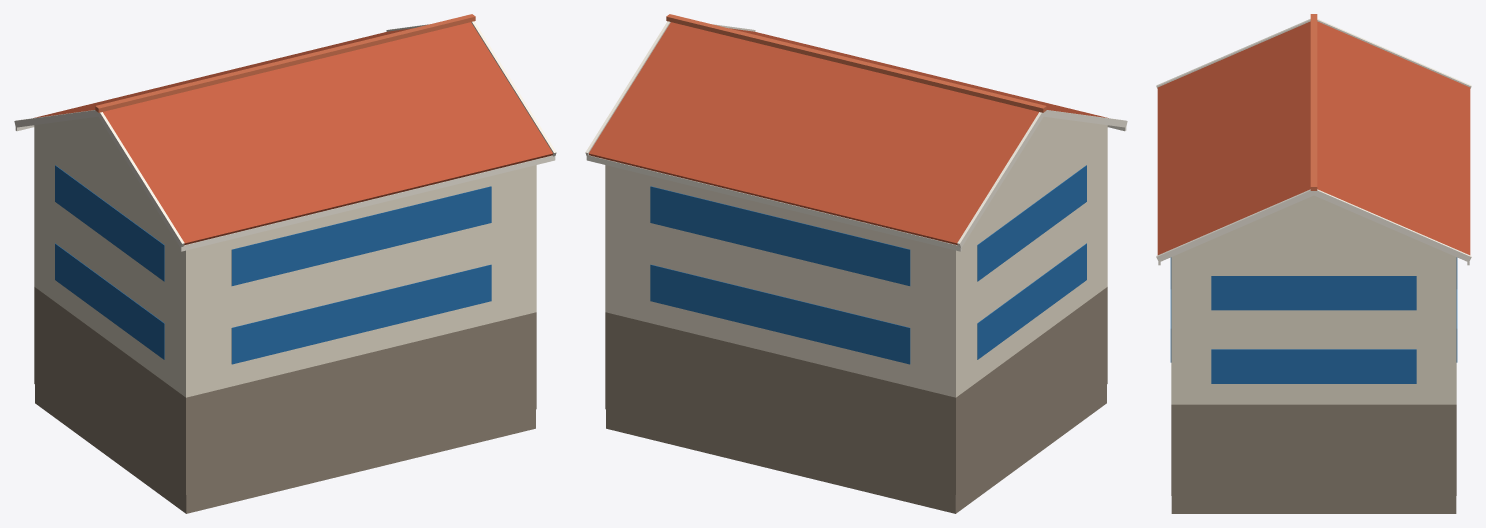
Rendered from 07b_midrise_gabled-lod2.glb.
3 renders of one model, left to right at view 1: azimuth 30°, elevation 25°; view 2: azimuth 150°, elevation 25°; view 3: azimuth 270°, elevation 25°, orthographic. The views are drawn at different scales.
Parts seen in each view (by area): view 1: LOD2_07b_midrise_gabled; view 2: LOD2_07b_midrise_gabled; view 3: LOD2_07b_midrise_gabled.
Part boxes in pixels (x1,y1,x2,y2): LOD2_07b_midrise_gabled: (14, 14, 556, 513); LOD2_07b_midrise_gabled: (585, 14, 1127, 513); LOD2_07b_midrise_gabled: (1156, 14, 1471, 513).
Size of the model in its own units: 14.62 by 13.14 by 11.27.
2 materials, 2 textured.
